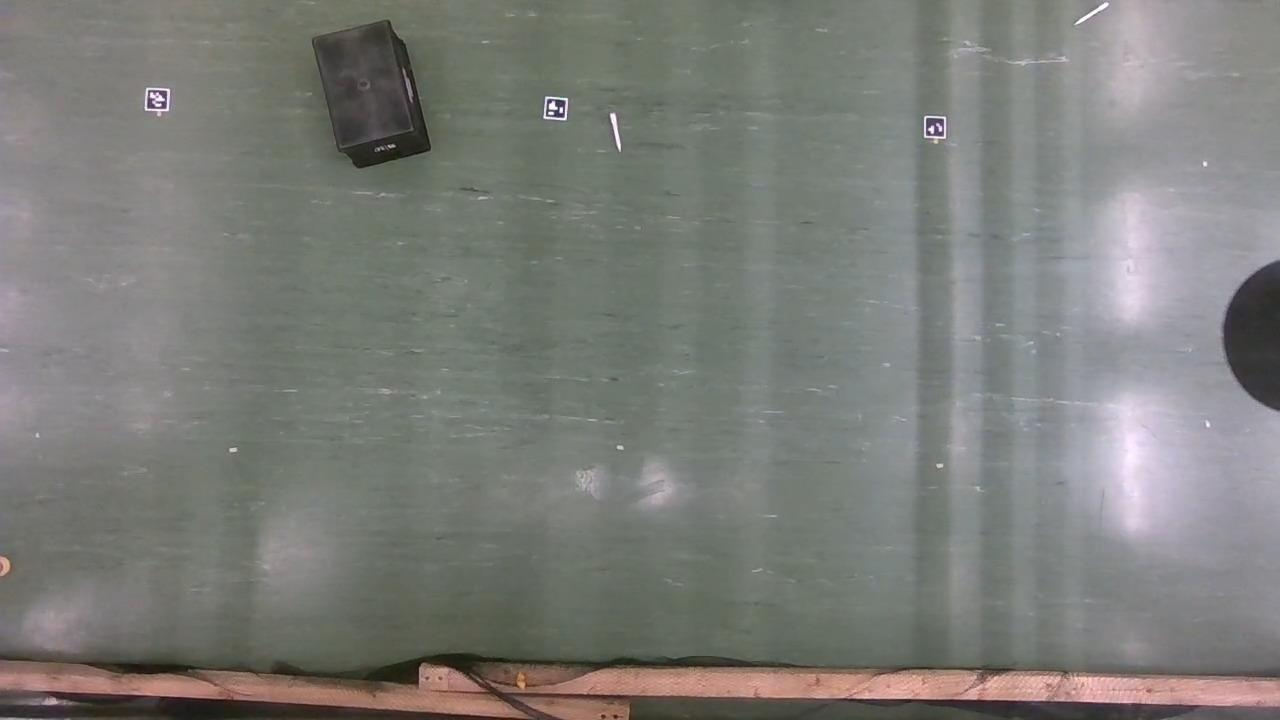probes: (1075, 2, 1108, 26), (610, 114, 624, 155)
rako: (313, 22, 430, 171)
